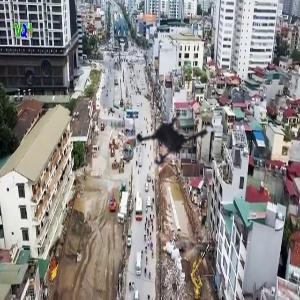drone: (119, 98, 219, 198)
